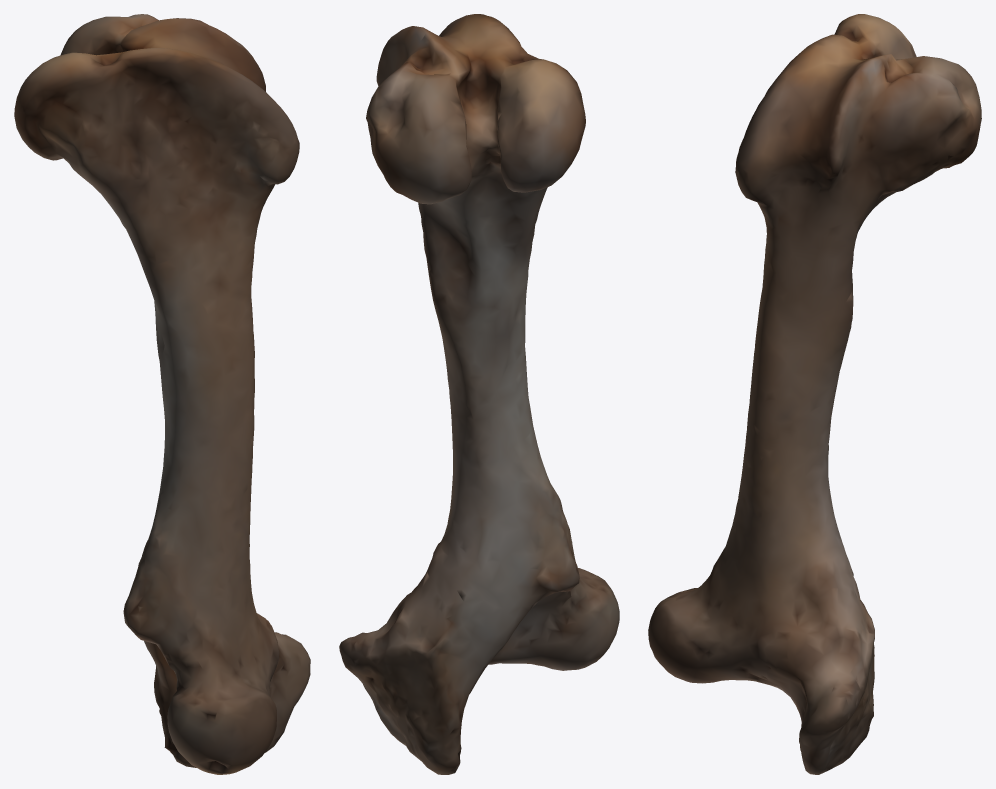
Rendered from CowFemur2.fbx.
3 views of the same model, side by side, from view 1: azimuth 30°, elevation 25°; view 2: azimuth 150°, elevation 25°; view 3: azimuth 270°, elevation 25° (orthographic). The views are drawn at different scales.
Parts seen in each view (by area): view 1: CowFemur.001_Baked; view 2: CowFemur.001_Baked; view 3: CowFemur.001_Baked.
Boxes of the visible parts, bbox=[...] form: CowFemur.001_Baked: bbox=[14, 14, 310, 774]; CowFemur.001_Baked: bbox=[339, 14, 619, 774]; CowFemur.001_Baked: bbox=[648, 14, 981, 774].
Size of the model in its own units: 36.91 by 99.97 by 43.17.
